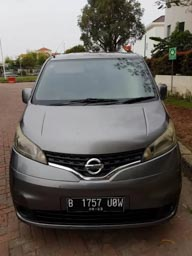plat: (67, 197, 126, 206)
